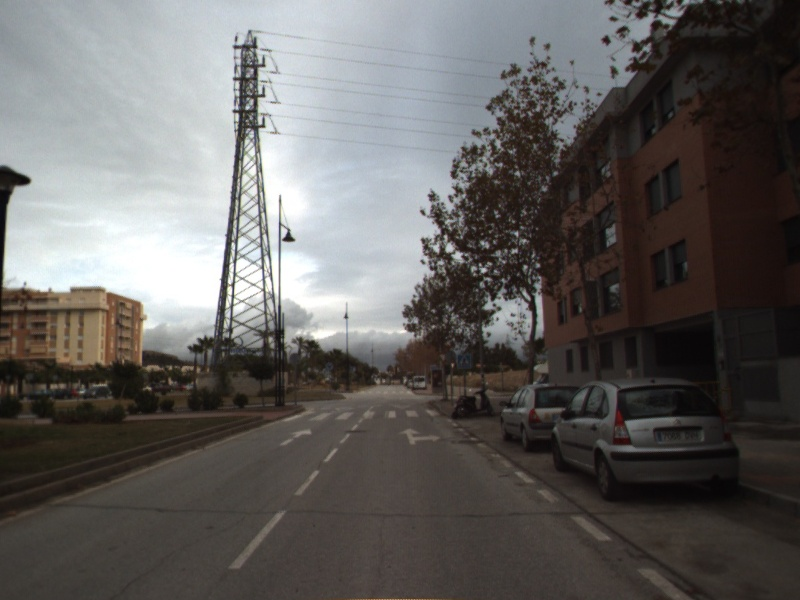STRAIGHT: (278, 426, 314, 447)
STRAIGHT_RIGHT: (397, 426, 442, 446)
